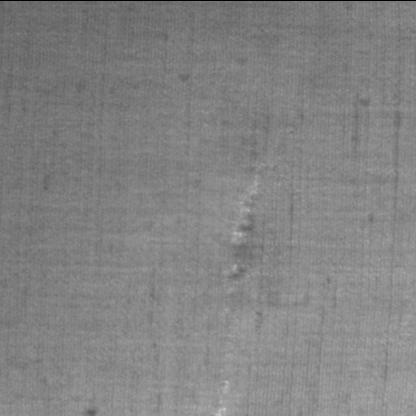thread error: (214, 171, 268, 299)
